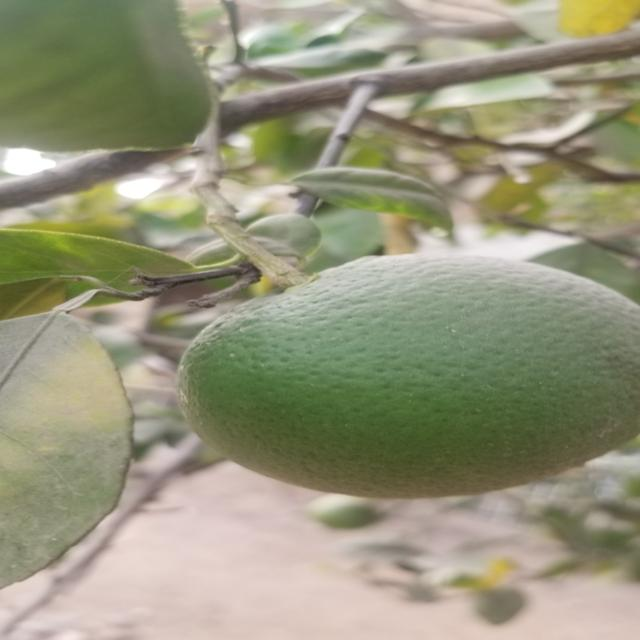Unripe: (173, 259, 637, 495)
